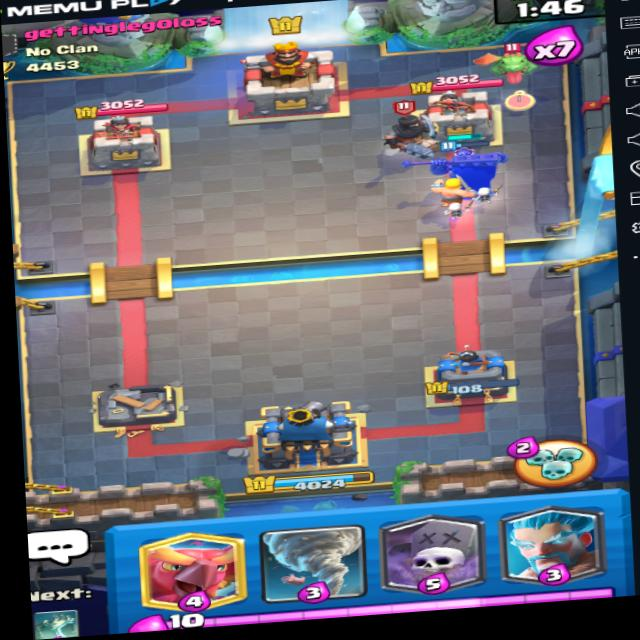baby-dragon: (478, 42, 545, 87)
dark-prince: (373, 95, 448, 161)
